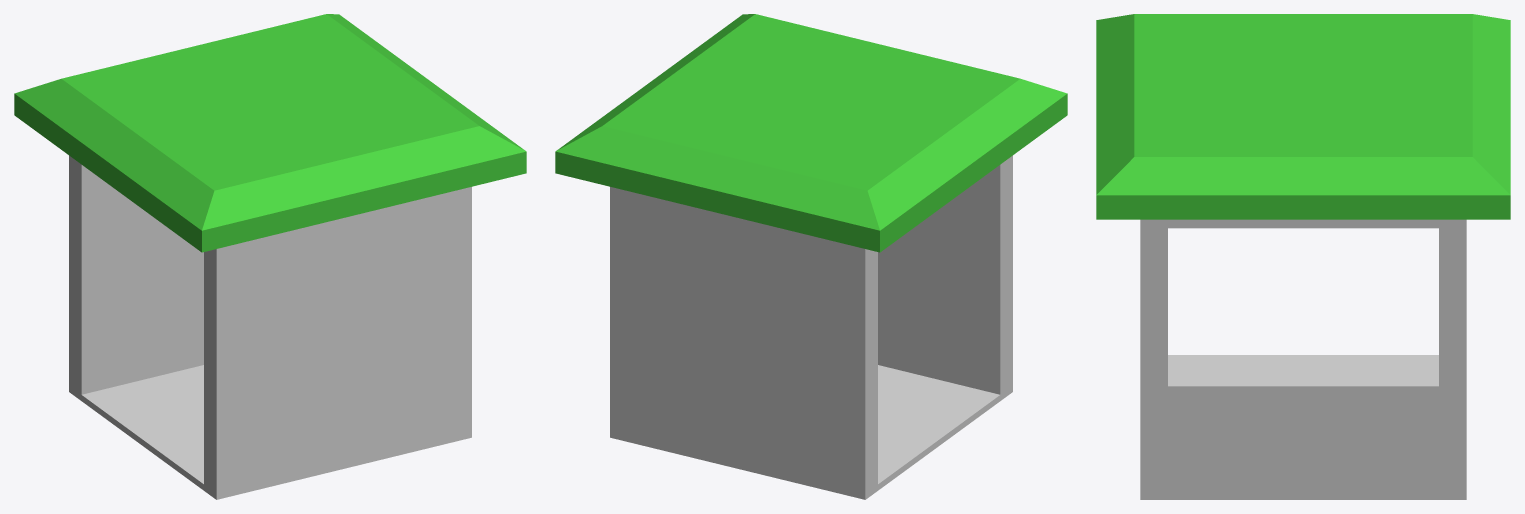
Rendered from store_green_GLB.glb.
The picture shows the model from 3 angles, left to right: view 1: azimuth 30°, elevation 25°; view 2: azimuth 150°, elevation 25°; view 3: azimuth 270°, elevation 25°; orthographic projection. The views are drawn at different scales.
Visible parts, largest first — view 1: Store; view 2: Store; view 3: Store.
Boxes of the visible parts, x1=… form: Store: x1=14, y1=14, x2=526, y2=499; Store: x1=555, y1=14, x2=1067, y2=499; Store: x1=1096, y1=14, x2=1510, y2=499.
Size of the model in its own units: 2.54 by 2.34 by 2.54.
